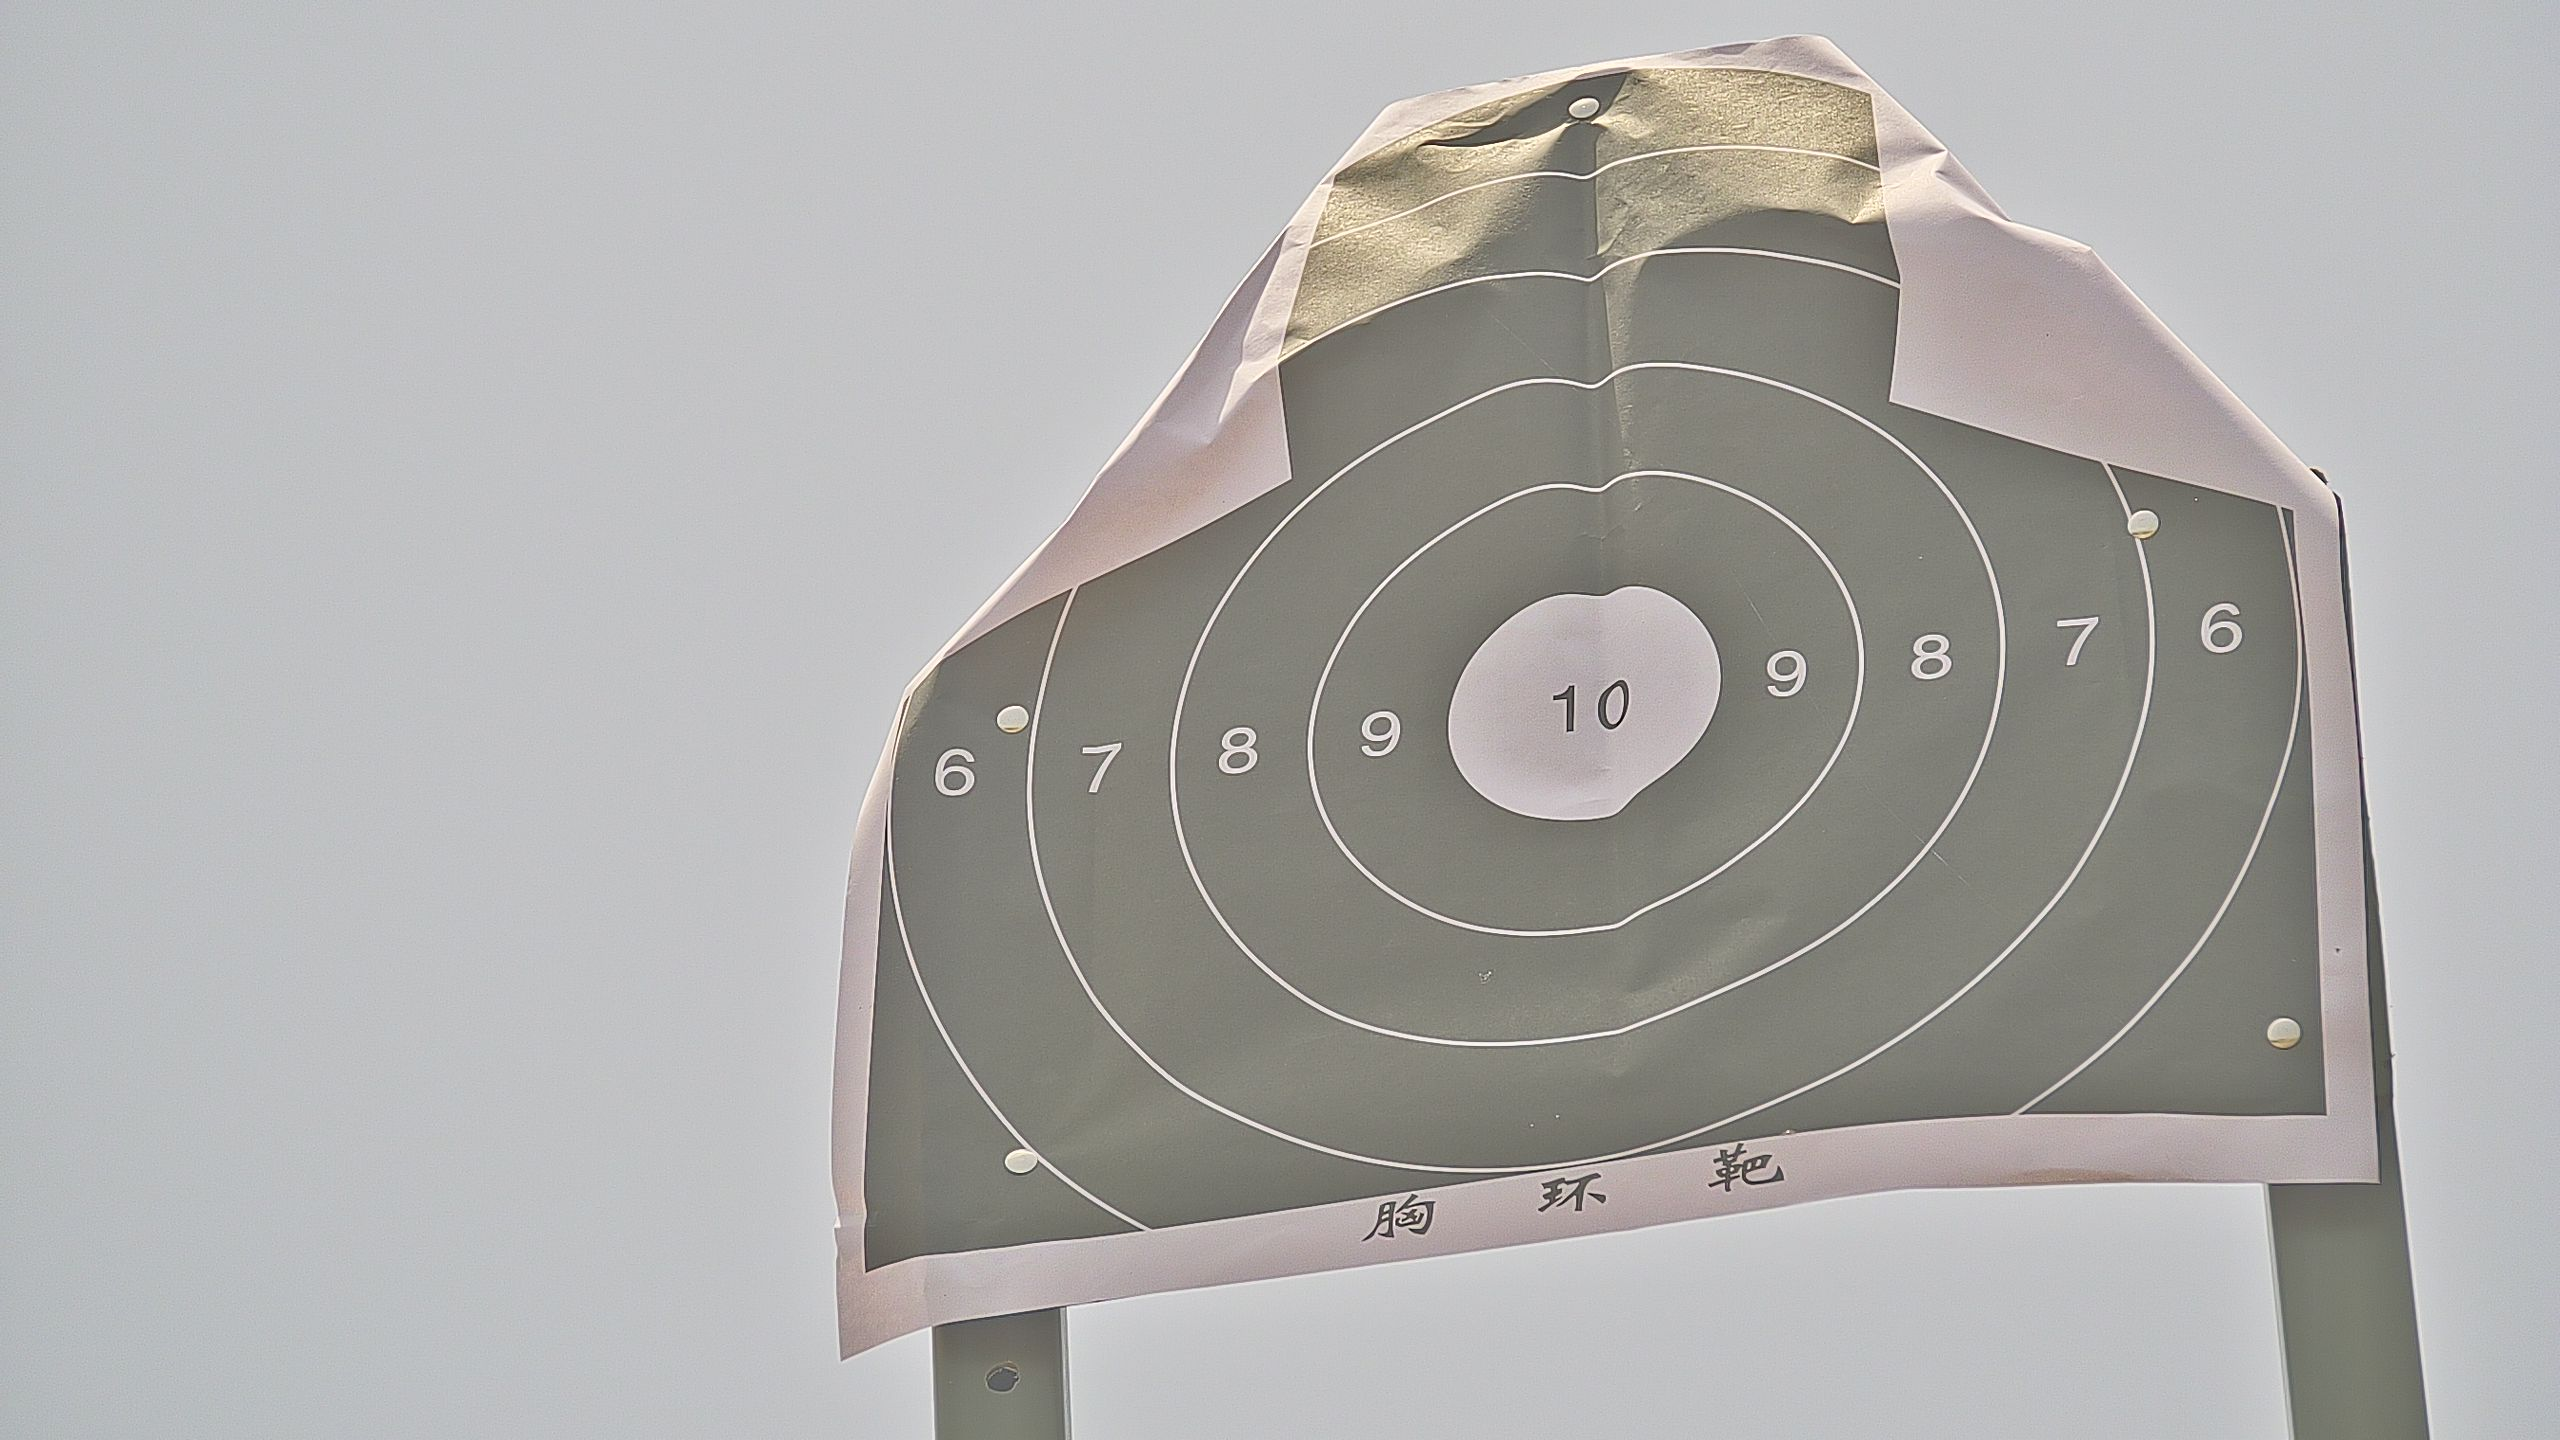kernel: (1582, 710, 1586, 712)
target: (862, 70, 2326, 1266)
ten: (1447, 582, 1725, 823)
